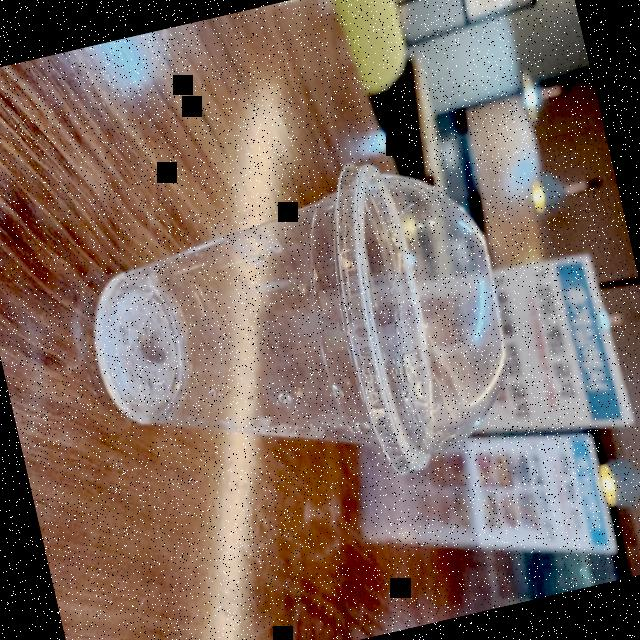plastic_cup_lid: (300, 132, 542, 490)
